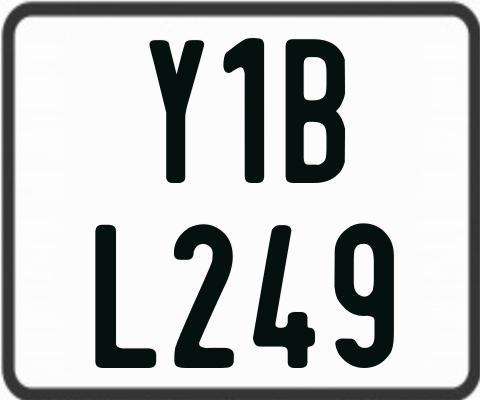1: (222, 38, 265, 187)
2: (173, 223, 239, 368)
4: (250, 222, 315, 366)
9: (333, 221, 398, 367)
B: (285, 37, 347, 181)
L: (93, 222, 155, 366)
Y: (148, 40, 206, 188)
